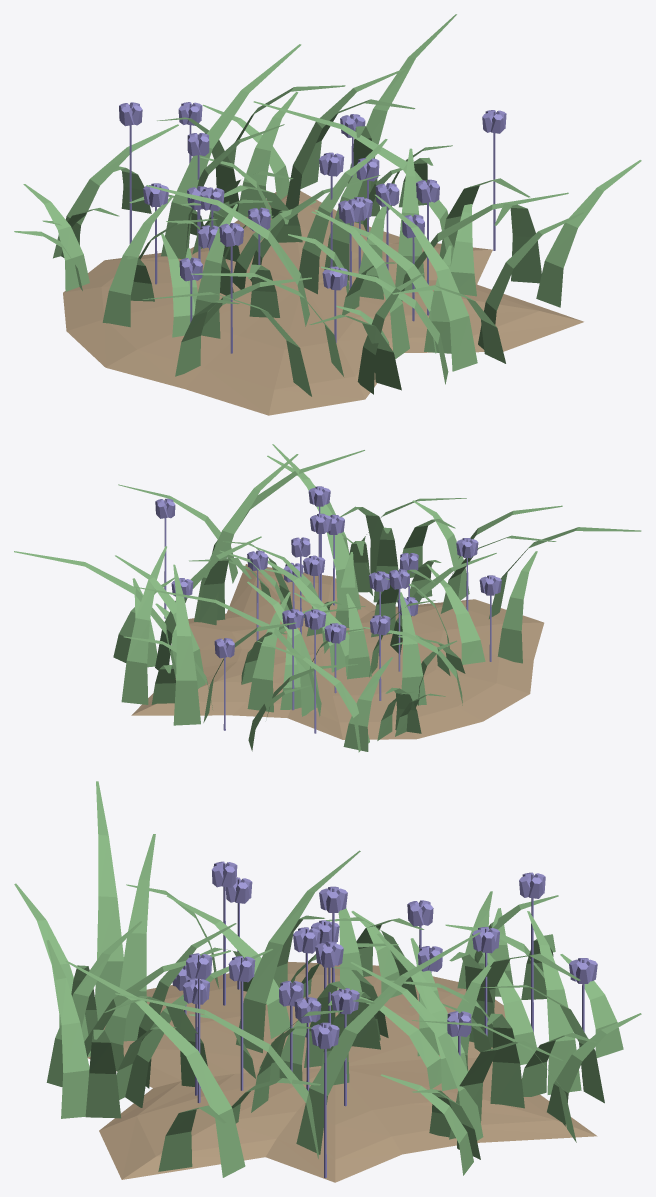
File: temperate-forest-ecology-bluebell-carpet-89700229__3853.glb
3 views of the same model, one above another, from view 1: azimuth 30°, elevation 25°; view 2: azimuth 150°, elevation 25°; view 3: azimuth 270°, elevation 25° (orthographic). The views are drawn at different scales.
Visible parts, largest first — view 1: bluebell-carpet; view 2: bluebell-carpet; view 3: bluebell-carpet.
Part boxes in pixels (bbox=[...]): bluebell-carpet: bbox=[14, 14, 641, 415]; bluebell-carpet: bbox=[14, 444, 641, 752]; bluebell-carpet: bbox=[14, 781, 641, 1182].
Bounding box in the file's own units: 1.88 × 0.4754 × 1.67.
